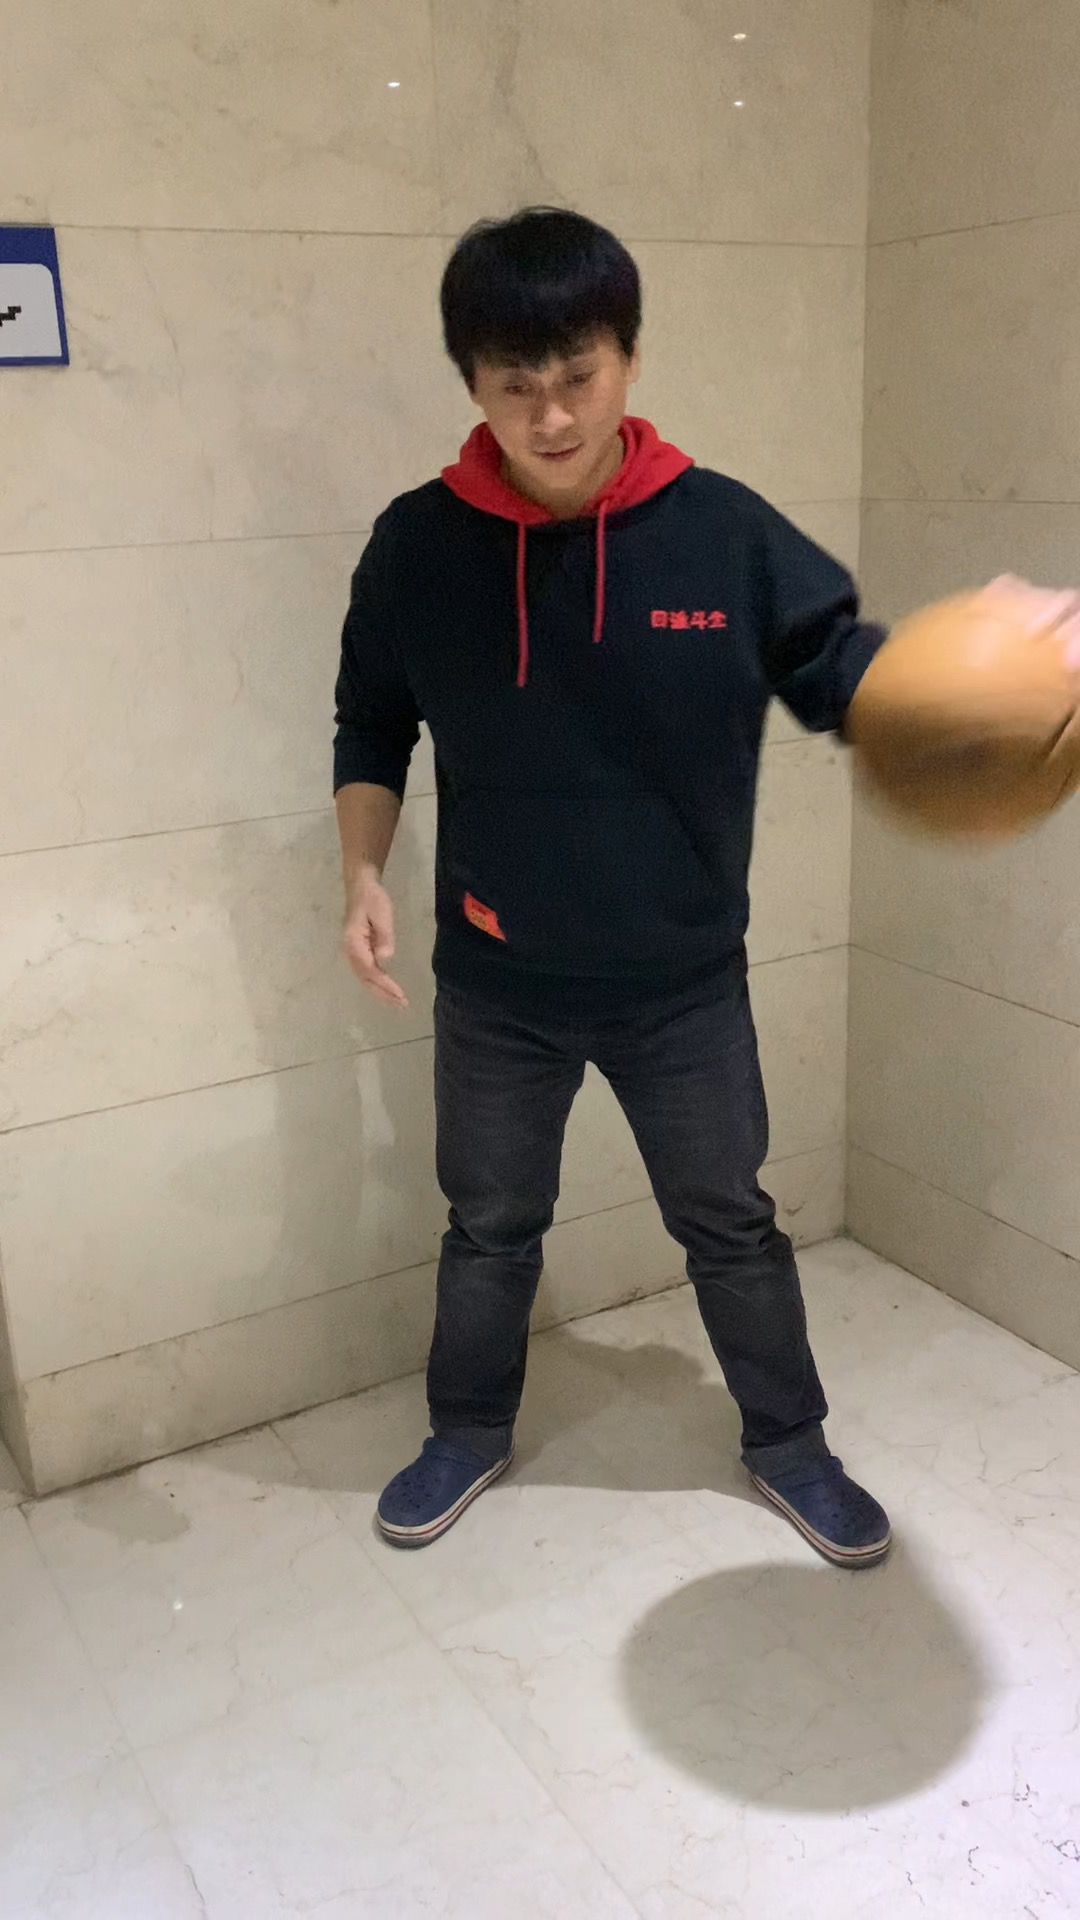ball: (840, 578, 1080, 858)
